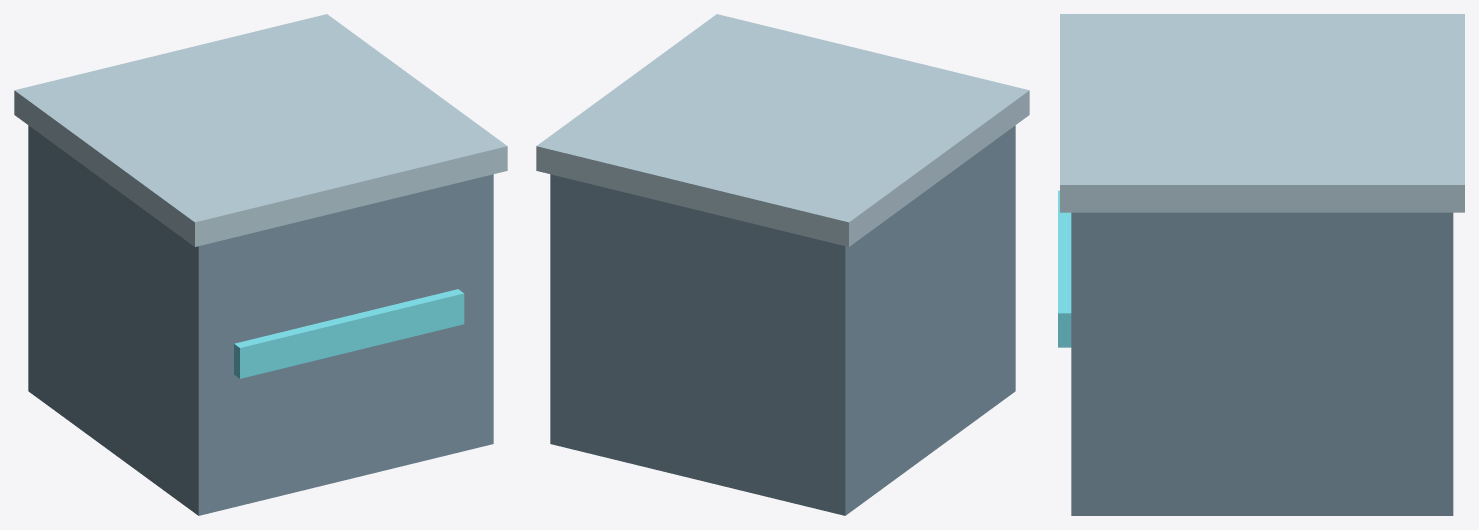
The model's file is obstacle_crate.glb.
The picture shows the model from 3 angles, left to right: view 1: azimuth 30°, elevation 25°; view 2: azimuth 150°, elevation 25°; view 3: azimuth 270°, elevation 25°; orthographic projection. The views are drawn at different scales.
Parts seen in each view (by area): view 1: crate_body_0, lid_1, panel_led_2; view 2: crate_body_0, lid_1; view 3: crate_body_0, lid_1, panel_led_2.
Part boxes in pixels (bbox=[...]): crate_body_0: bbox=[28, 125, 493, 515]; lid_1: bbox=[14, 14, 507, 246]; panel_led_2: bbox=[234, 289, 464, 378]; crate_body_0: bbox=[550, 125, 1015, 515]; lid_1: bbox=[536, 14, 1029, 246]; crate_body_0: bbox=[1071, 212, 1453, 515]; lid_1: bbox=[1060, 14, 1464, 212]; panel_led_2: bbox=[1058, 190, 1071, 347].
Size of the model in its own units: 1.06 by 0.97 by 1.06.
